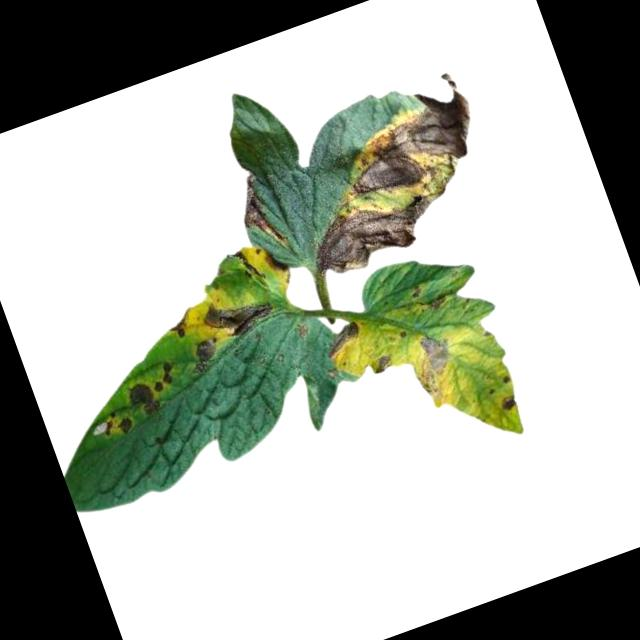Early_blight: (313, 68, 488, 205), (299, 169, 463, 284), (197, 281, 278, 346), (229, 169, 285, 253), (402, 327, 462, 399), (317, 317, 366, 359), (121, 376, 163, 423), (183, 331, 226, 374), (159, 305, 197, 344), (96, 405, 134, 442), (259, 244, 292, 280), (147, 359, 179, 394), (420, 289, 450, 316), (492, 390, 520, 418), (367, 351, 393, 374)
